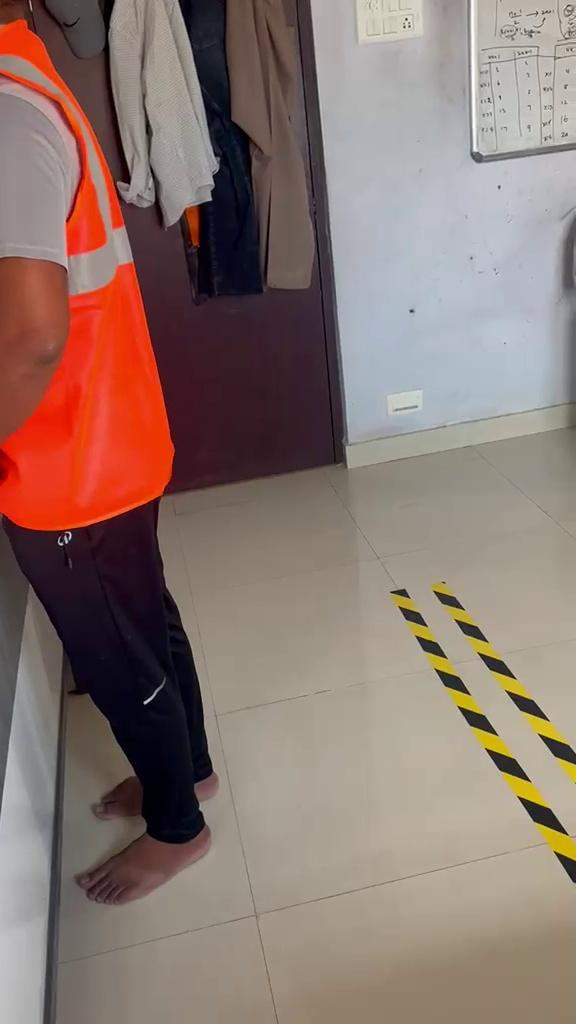BorderLine: (391, 582, 576, 885)
Person: (0, 1, 219, 906)
Vest: (0, 20, 175, 529)
